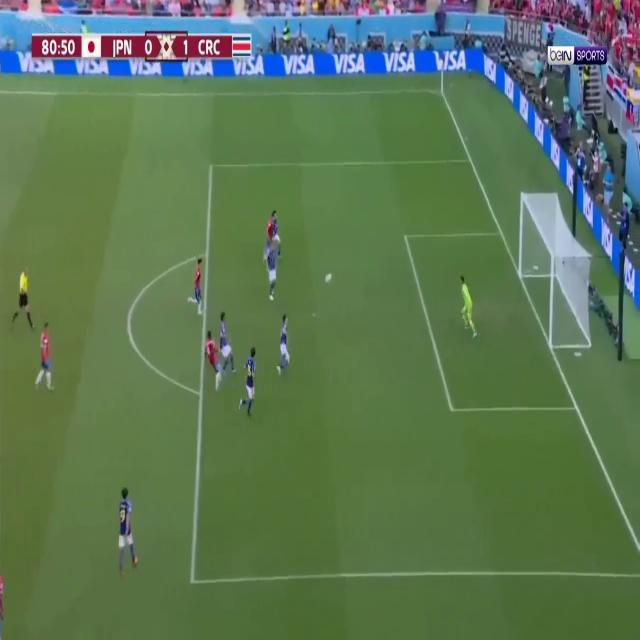ball: (325, 271, 333, 285)
team1: (117, 485, 140, 579), (238, 344, 259, 421), (220, 308, 238, 378), (276, 311, 292, 377), (266, 238, 278, 304), (272, 208, 283, 262)
team2: (204, 328, 228, 393), (34, 322, 55, 391), (188, 256, 205, 317), (264, 213, 274, 270), (1, 564, 6, 638)
